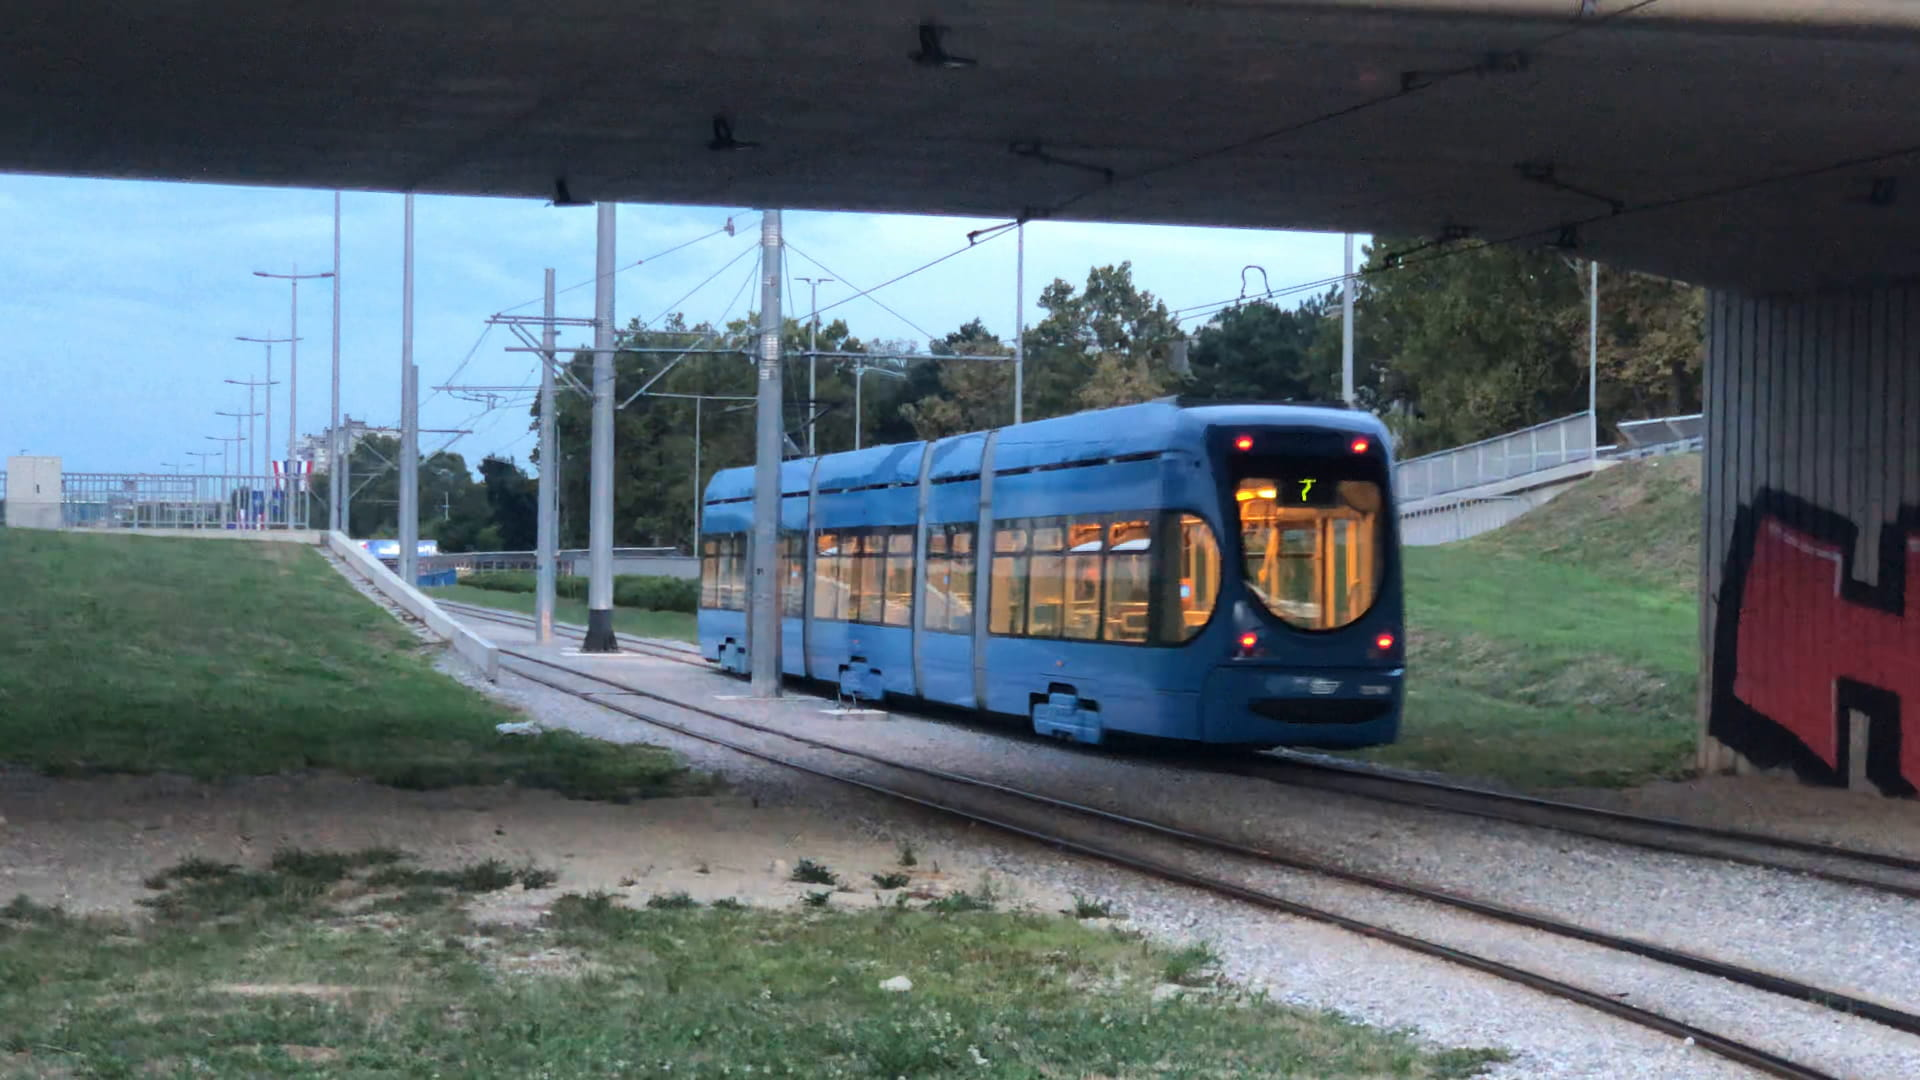tramvaj: (687, 386, 1418, 760)
